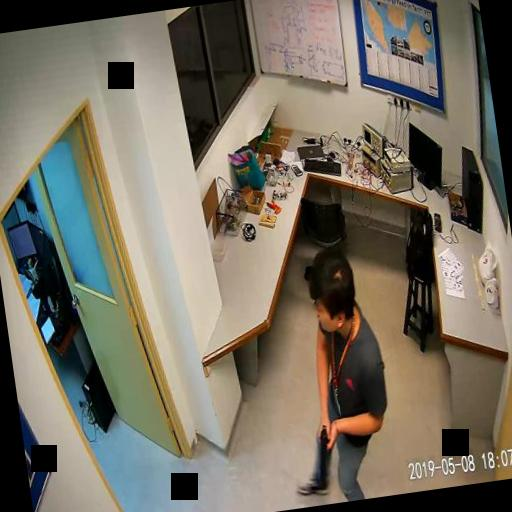Handgun: (312, 423, 333, 480)
